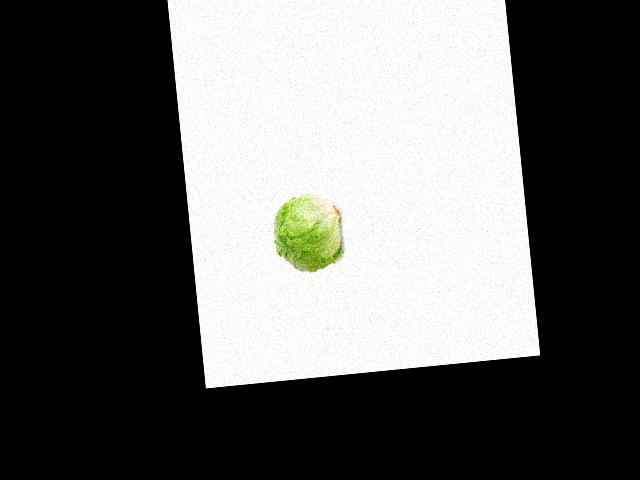lettuce: (270, 195, 343, 275)
